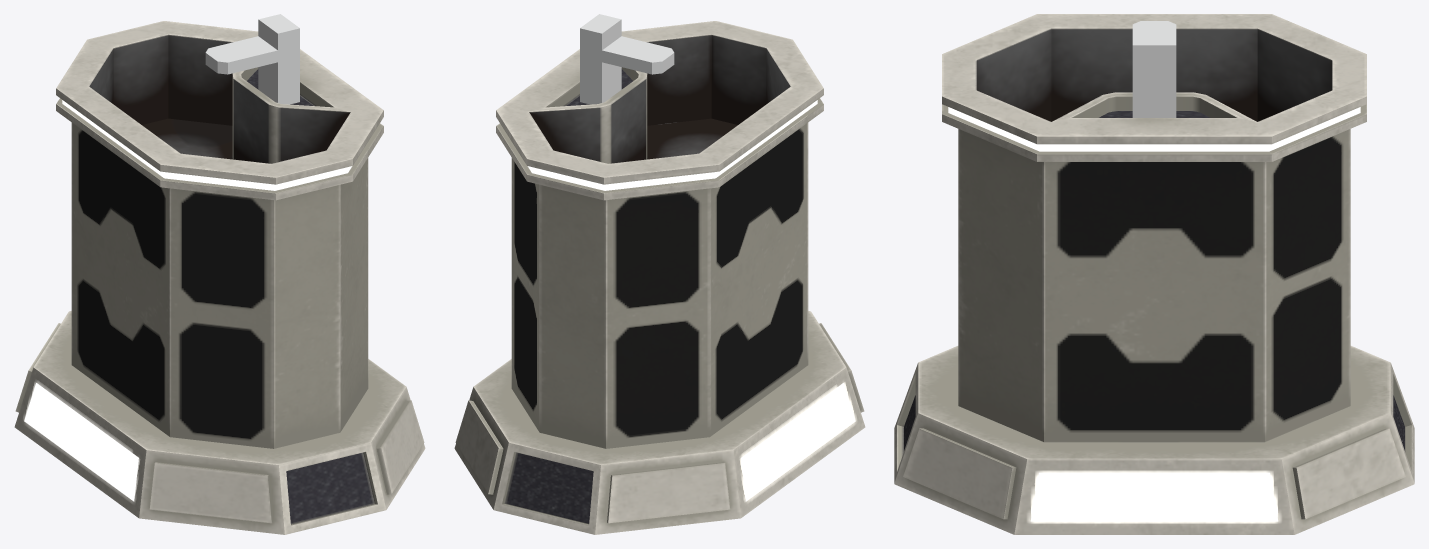
The model's file is SM_BathRoomSink.fbx.
3 views of the same model, side by side, from view 1: azimuth 30°, elevation 25°; view 2: azimuth 150°, elevation 25°; view 3: azimuth 270°, elevation 25° (orthographic). The views are drawn at different scales.
Parts seen in each view (by area): view 1: SM_BathRoomSink_LOD0; view 2: SM_BathRoomSink_LOD0; view 3: SM_BathRoomSink_LOD0.
Part boxes in pixels (left/top/right/bottom): SM_BathRoomSink_LOD0: left=14, top=14, right=425, bottom=534; SM_BathRoomSink_LOD0: left=454, top=14, right=865, bottom=534; SM_BathRoomSink_LOD0: left=894, top=14, right=1414, bottom=534.
Size of the model in its own units: 81.66 by 109 by 114.
1 material, 1 textured.
